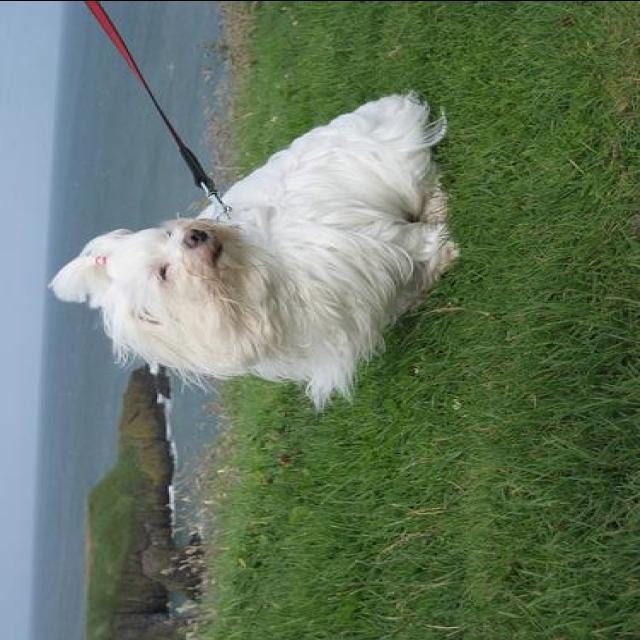maltese_dog: (46, 89, 462, 411)
